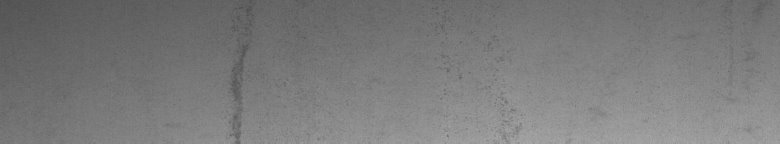ib: (437, 36, 522, 133)
